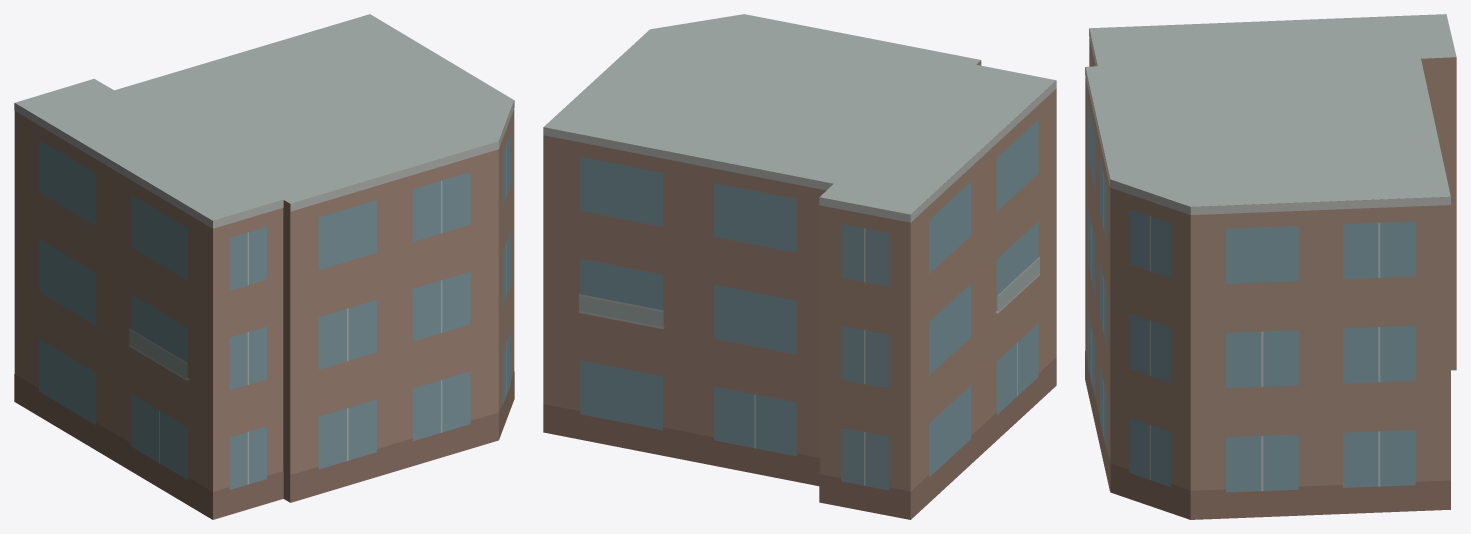
Rendered from survey-upis-32605589.glb.
3 views of the same model, side by side, from view 1: azimuth 30°, elevation 25°; view 2: azimuth 150°, elevation 25°; view 3: azimuth 270°, elevation 25° (orthographic). The views are drawn at different scales.
Parts seen in each view (by area): view 1: survey-upis-32605589.tmp; view 2: survey-upis-32605589.tmp; view 3: survey-upis-32605589.tmp.
Part boxes in pixels (left/top/right/bottom): survey-upis-32605589.tmp: left=14, top=14, right=514, bottom=519; survey-upis-32605589.tmp: left=543, top=14, right=1056, bottom=519; survey-upis-32605589.tmp: left=1085, top=14, right=1456, bottom=519.
Size of the model in its own units: 12.17 by 9.2 by 9.9.
